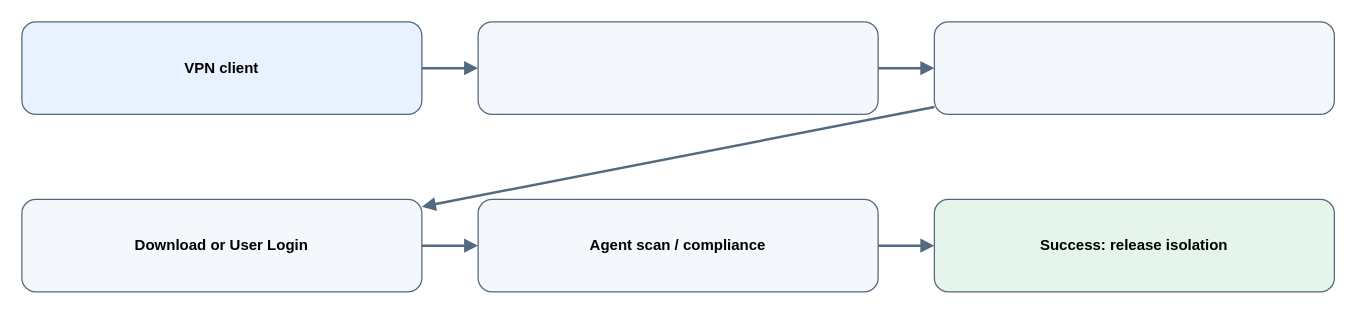
This 1356x314 diagram has some shape labels left out. Here are the shapes that lost their labels. From the top down, the box of each, then its label:
(477, 21, 878, 114): VPN_Redirect / host context
(933, 21, 1334, 114): Identity and agent branch
